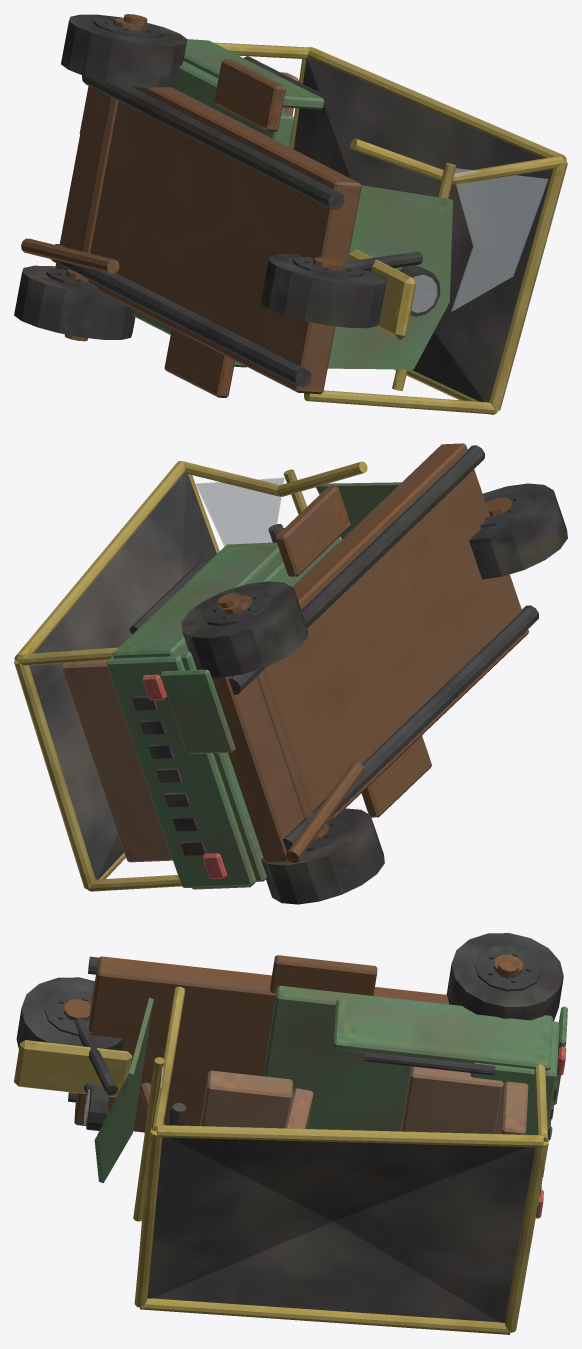
Rendered from JV10_wrecked_auto_rickshaw_v1.glb.
3 renders of one model, top to bottom at view 1: azimuth 30°, elevation 25°; view 2: azimuth 150°, elevation 25°; view 3: azimuth 270°, elevation 25°, orthographic. The views are drawn at different scales.
Parts seen in each view (by area): view 1: Exposed ladder chassis; view 2: Exposed ladder chassis; view 3: Exposed ladder chassis.
Part boxes in pixels (x1,y1,x2,y2): Exposed ladder chassis: (14,14,567,414); Exposed ladder chassis: (14,443,567,904); Exposed ladder chassis: (14,933,567,1334).
Bounding box in the file's own units: 2.18 × 1.93 × 3.
Materials: 9 (8 with a texture image).
